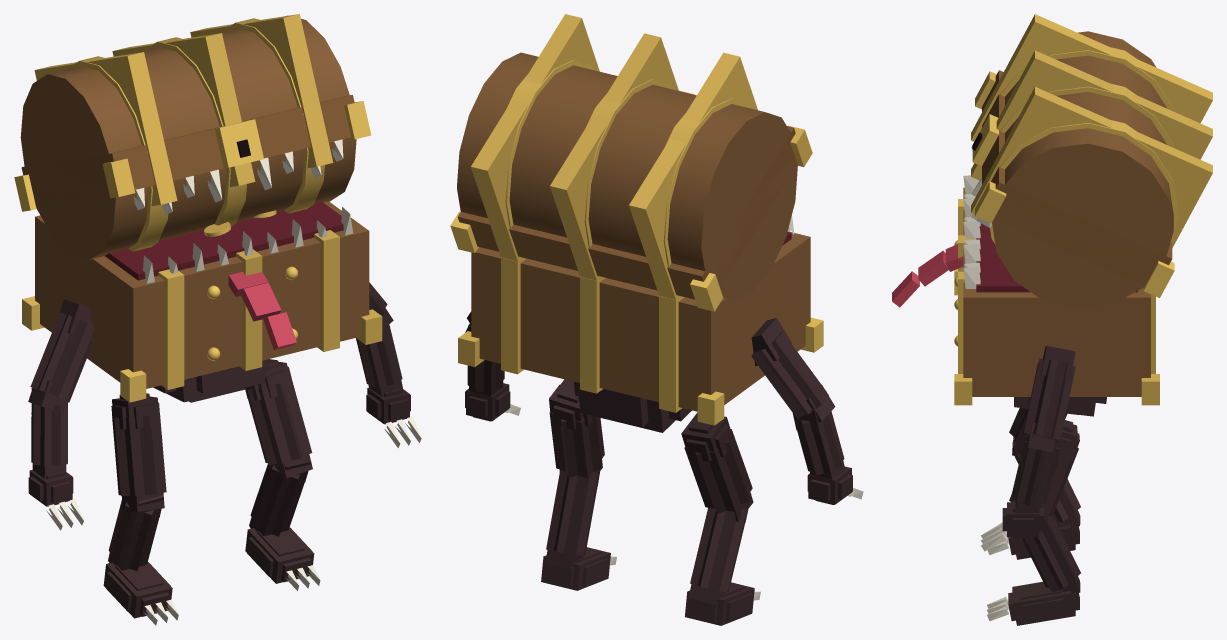
3 renders of one model, left to right at view 1: azimuth 30°, elevation 25°; view 2: azimuth 150°, elevation 25°; view 3: azimuth 270°, elevation 25°, orthographic. The views are drawn at different scales.
Parts seen in each view (by area): view 1: Mimic; view 2: Mimic; view 3: Mimic.
Part boxes in pixels (x1,y1,x2,y2): Mimic: (14,14,421,625); Mimic: (450,14,863,625); Mimic: (892,14,1212,625).
Size of the model in its own units: 0.88 by 1.26 by 0.69.
